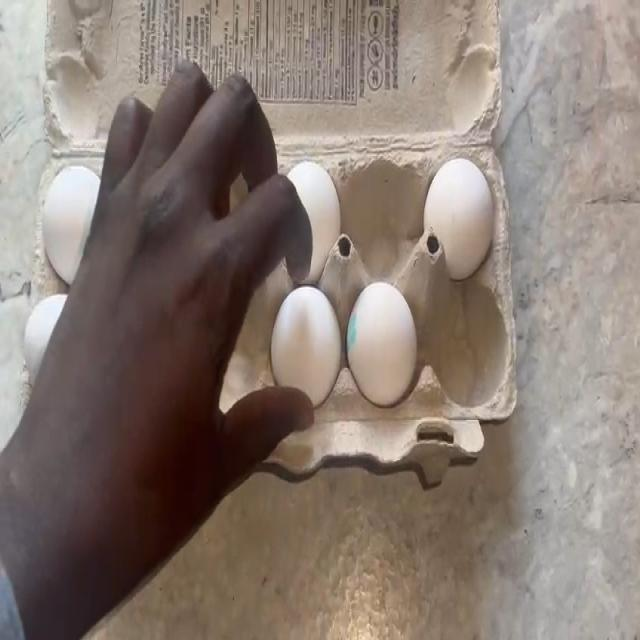Egg: (352, 282, 412, 377), (280, 293, 332, 398), (425, 157, 483, 240), (35, 168, 90, 240), (290, 163, 336, 227), (22, 302, 58, 344)
